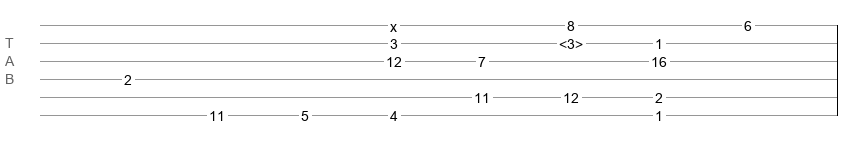1: (655, 108, 663, 118), (655, 36, 663, 46)
11: (209, 108, 225, 118), (474, 90, 490, 100)
12: (386, 54, 402, 64), (563, 90, 579, 100)
16: (651, 54, 667, 64)
2: (124, 72, 132, 82), (655, 90, 663, 100)
3: (390, 36, 398, 46)
4: (390, 108, 398, 118)
5: (301, 108, 309, 118)
6: (744, 18, 752, 28)
7: (478, 54, 486, 64)
8: (567, 18, 575, 28)
harmonic: (559, 36, 583, 46)
x: (390, 19, 397, 27)
